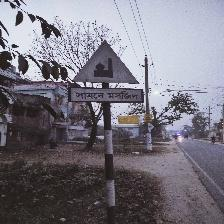Mosque in front: (65, 36, 150, 109)
